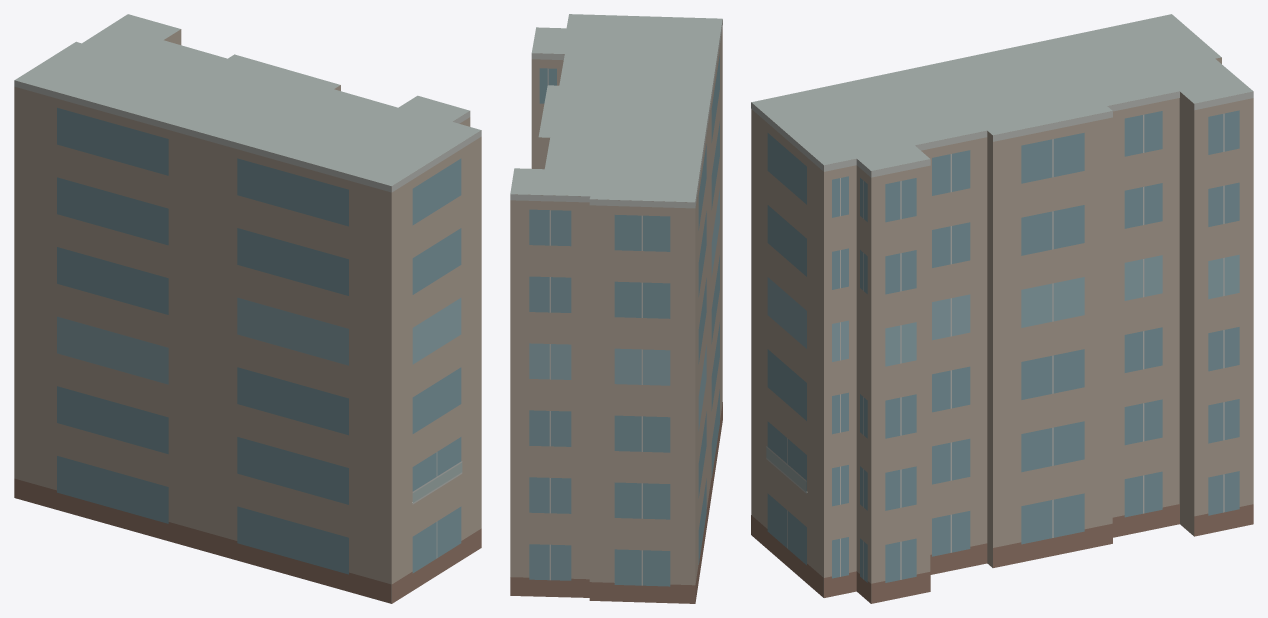
Rendered from survey-upis-32743133.glb.
The picture shows the model from 3 angles, left to right: view 1: azimuth 30°, elevation 25°; view 2: azimuth 150°, elevation 25°; view 3: azimuth 270°, elevation 25°; orthographic projection. The views are drawn at different scales.
Parts seen in each view (by area): view 1: survey-upis-32743133.tmp; view 2: survey-upis-32743133.tmp; view 3: survey-upis-32743133.tmp.
Boxes of the visible parts, x1,y1,x2,y2 form: survey-upis-32743133.tmp: [14, 14, 481, 603]; survey-upis-32743133.tmp: [510, 14, 722, 603]; survey-upis-32743133.tmp: [751, 14, 1253, 603].
Bounding box in the file's own units: 12.54 × 16.1 × 16.95.
